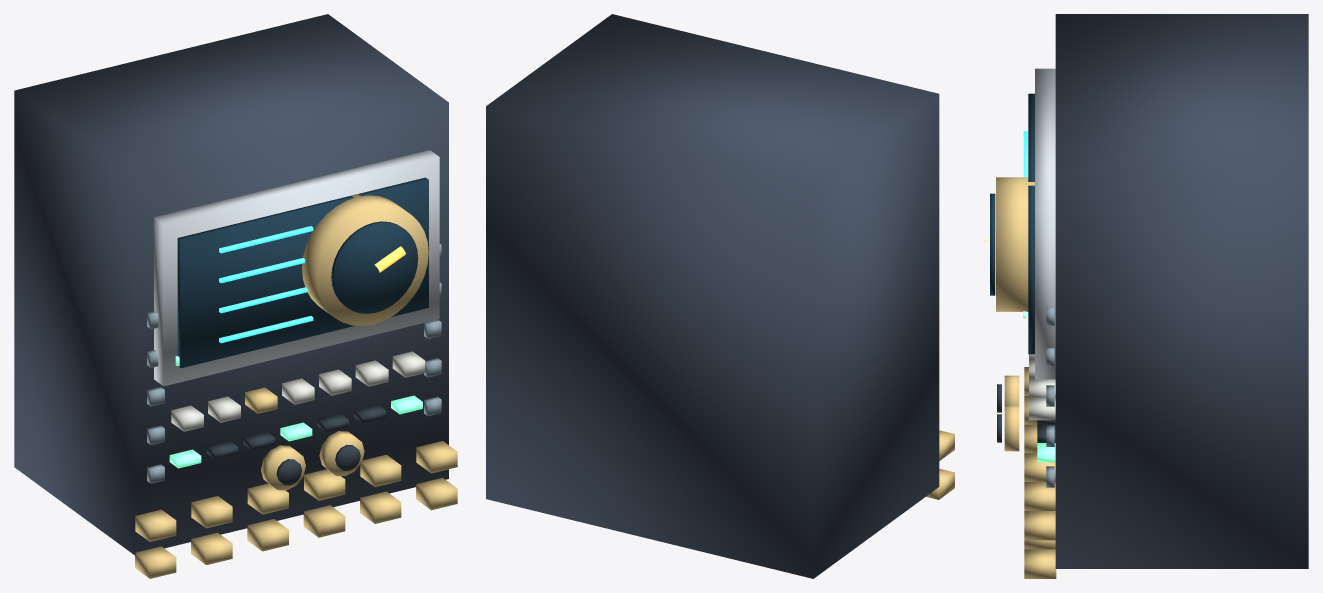
File: 74_L92_CoreMassMetrology.glb
The picture shows the model from 3 angles, left to right: view 1: azimuth 30°, elevation 25°; view 2: azimuth 150°, elevation 25°; view 3: azimuth 270°, elevation 25°; orthographic projection. The views are drawn at different scales.
Parts seen in each view (by area): view 1: L92_CoreMassMetrology, L92_CoreMassMetrology_Part_0011, L92_CoreMassMetrology_Part_0013; view 2: L92_CoreMassMetrology; view 3: L92_CoreMassMetrology, L92_CoreMassMetrology_Part_0013, L92_CoreMassMetrology_Part_0011.
Part boxes in pixels (<box>): L92_CoreMassMetrology: <box>14,14,457,578</box>; L92_CoreMassMetrology_Part_0011: <box>261,445,305,490</box>; L92_CoreMassMetrology_Part_0013: <box>319,431,364,475</box>; L92_CoreMassMetrology: <box>486,14,954,578</box>; L92_CoreMassMetrology: <box>990,14,1308,578</box>; L92_CoreMassMetrology_Part_0013: <box>1004,405,1019,451</box>; L92_CoreMassMetrology_Part_0011: <box>1004,375,1019,405</box>.
Size of the model in its own units: 1.07 by 1.27 by 0.918.
